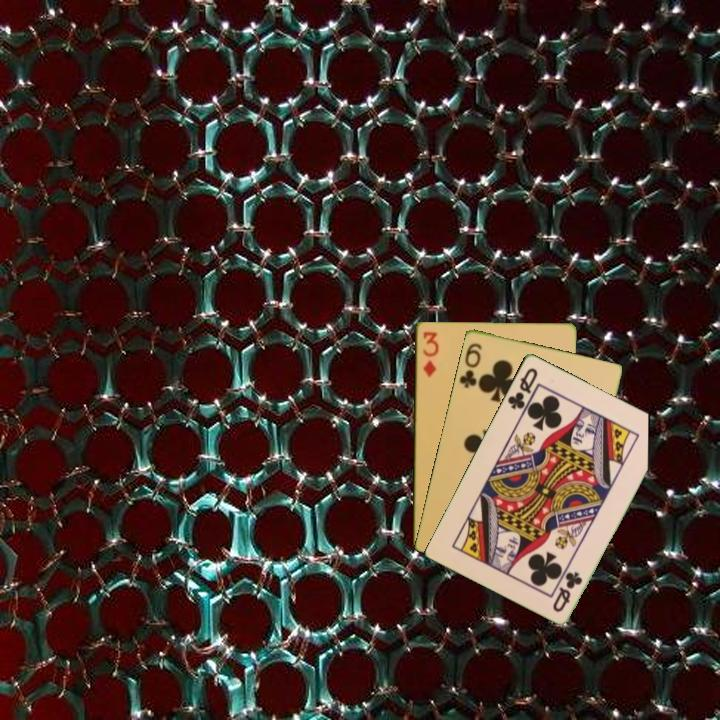3d: (419, 328, 441, 380)
6c: (455, 339, 484, 391)
Qc: (504, 364, 540, 412), (549, 568, 585, 615)
